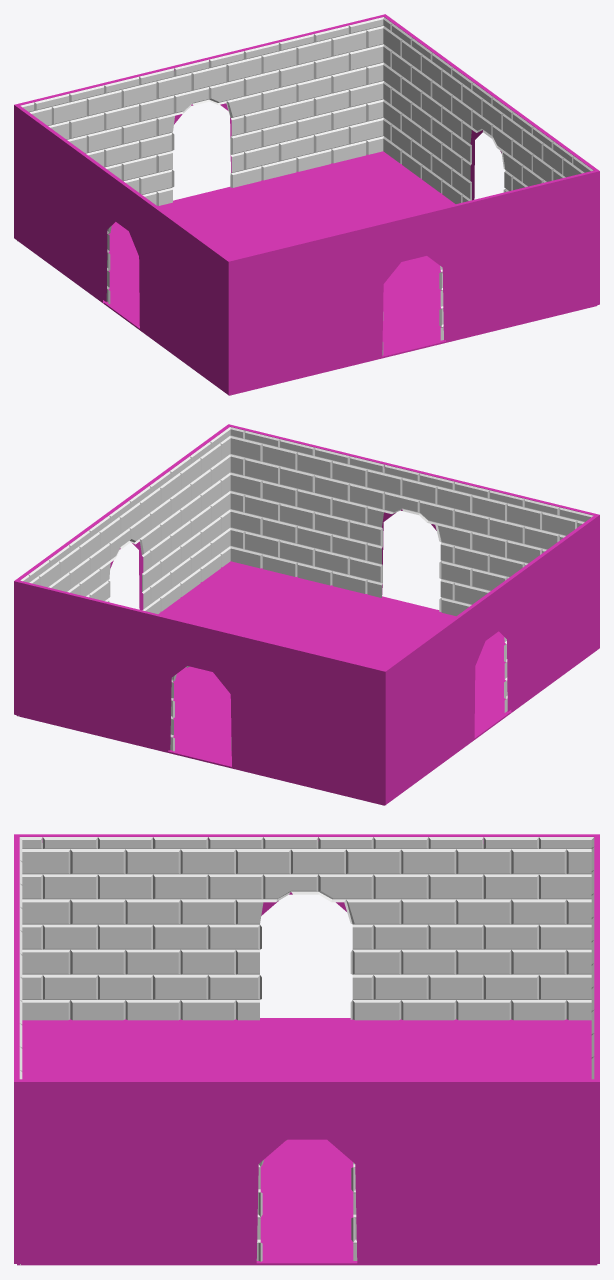
File: Start.fbx
3 renders of one model, top to bottom at view 1: azimuth 30°, elevation 25°; view 2: azimuth 150°, elevation 25°; view 3: azimuth 270°, elevation 25°, orthographic. The views are drawn at different scales.
Parts seen in each view (by area): view 1: Cube.005; view 2: Cube.005; view 3: Cube.005.
Boxes of the visible parts, x1,y1,x2,y2 form: Cube.005: (14, 14, 599, 395); Cube.005: (14, 424, 599, 805); Cube.005: (14, 834, 599, 1265).
Size of the model in its own units: 2020 by 2020 by 703.
